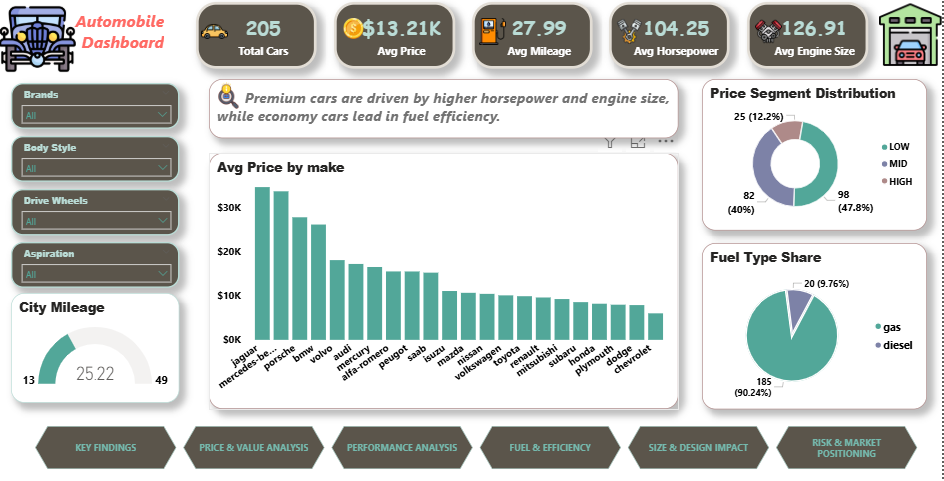

Layout of this report page (visuals, bound fields, positions):
{"tool":"powerbi","page":{"name":"EXECUTIVE OVERVIEW","canvas":[1400,720],"ordinal":2},"visuals":[{"type":"card","fields":{"Values":["automobile_data.Avg Price"]},"box":[497.7,2.3,180.3,99],"z":0},{"type":"card","fields":{"Values":["automobile_data.Total Sales"]},"box":[292.3,2.3,179.3,99],"z":1000},{"type":"card","fields":{"Values":["automobile_data.Avg Horsepower"]},"box":[906.3,2.3,179.3,99],"z":2000},{"type":"card","fields":{"Values":["automobile_data.Avg Mileage"]},"box":[702,2.3,179.3,99],"z":3000},{"type":"card","fields":{"Values":["automobile_data.Avg Engine Size"]},"box":[1110.6,2.3,180.3,99],"z":4000},{"type":"image","box":[300.5,27.1,40,40],"z":5000},{"type":"image","box":[507.3,27.4,36.5,30.8],"z":6000},{"type":"image","box":[712.2,27.1,40,40],"z":7000},{"type":"image","box":[915.7,27.1,40,40],"z":8000},{"type":"image","box":[1122.7,27.1,40,40],"z":9000},{"type":"columnChart","fields":{"Category":["automobile_data.make"],"Y":["automobile_data.Avg Price"]},"box":[311.8,227.7,697.4,380.4],"z":10000},{"type":"donutChart","title":"Price Segment Distribution","fields":{"Category":["automobile_data.Price Segment"],"Y":["CountNonNull(automobile_data.make)"]},"box":[1044.3,117.4,334,224.6],"z":11000},{"type":"pieChart","title":"Fuel Type Share","fields":{"Category":["automobile_data.fuel-type"],"Y":["CountNonNull(automobile_data.make)"]},"box":[1044.3,360.3,334,247.4],"z":12000},{"type":"textbox","box":[311.8,117.7,697.4,88],"z":13000},{"type":"image","box":[320.4,122,39.9,39.9],"z":14000},{"type":"slicer","fields":{"Values":["automobile_data.make"]},"box":[18.1,122.9,249.6,68],"z":15000},{"type":"slicer","fields":{"Values":["automobile_data.body-style"]},"box":[18.1,202.1,250,68],"z":16000},{"type":"slicer","fields":{"Values":["automobile_data.drive-wheels"]},"box":[18.1,280.9,250.2,68.8],"z":17000},{"type":"slicer","fields":{"Values":["automobile_data.aspiration"]},"box":[18.1,359,250.2,67.8],"z":18000},{"type":"textbox","box":[0,9.4,250.2,81.3],"z":19000},{"type":"image","box":[0,0,113.6,115.9],"z":20000},{"type":"image","box":[1306.8,0,93.2,102.2],"z":21000},{"type":"gauge","title":"City Mileage","fields":{"Y":["Avg(automobile_data.city-mpg)"],"MinValue":["Min(automobile_data.city-mpg)1"],"MaxValue":["Max(automobile_data.city-mpg)2"]},"box":[18.2,434.4,249.7,163],"z":22000},{"type":"pageNavigator","box":[53,632.7,1315.9,64.7],"z":23000}]}

Visuals, with their boxes in screenshot pixels (x1, y1, x2, y2), scaled from the page's 1400x720 canvas onto the 944x481 screenshot:
card - automobile_data.Avg Price: {"x1": 336, "y1": 2, "x2": 457, "y2": 68}
card - automobile_data.Total Sales: {"x1": 197, "y1": 2, "x2": 318, "y2": 68}
card - automobile_data.Avg Horsepower: {"x1": 611, "y1": 2, "x2": 732, "y2": 68}
card - automobile_data.Avg Mileage: {"x1": 473, "y1": 2, "x2": 594, "y2": 68}
card - automobile_data.Avg Engine Size: {"x1": 749, "y1": 2, "x2": 870, "y2": 68}
image: {"x1": 203, "y1": 18, "x2": 230, "y2": 45}
image: {"x1": 342, "y1": 18, "x2": 367, "y2": 39}
image: {"x1": 480, "y1": 18, "x2": 507, "y2": 45}
image: {"x1": 617, "y1": 18, "x2": 644, "y2": 45}
image: {"x1": 757, "y1": 18, "x2": 784, "y2": 45}
columnChart - automobile_data.make x automobile_data.Avg Price: {"x1": 210, "y1": 152, "x2": 680, "y2": 406}
"Price Segment Distribution" donutChart: {"x1": 704, "y1": 78, "x2": 929, "y2": 228}
"Fuel Type Share" pieChart: {"x1": 704, "y1": 241, "x2": 929, "y2": 406}
textbox: {"x1": 210, "y1": 79, "x2": 680, "y2": 137}
image: {"x1": 216, "y1": 82, "x2": 243, "y2": 108}
slicer - automobile_data.make: {"x1": 12, "y1": 82, "x2": 181, "y2": 128}
slicer - automobile_data.body-style: {"x1": 12, "y1": 135, "x2": 181, "y2": 180}
slicer - automobile_data.drive-wheels: {"x1": 12, "y1": 188, "x2": 181, "y2": 234}
slicer - automobile_data.aspiration: {"x1": 12, "y1": 240, "x2": 181, "y2": 285}
textbox: {"x1": 0, "y1": 6, "x2": 169, "y2": 61}
image: {"x1": 0, "y1": 0, "x2": 77, "y2": 77}
image: {"x1": 881, "y1": 0, "x2": 943, "y2": 68}
"City Mileage" gauge: {"x1": 12, "y1": 290, "x2": 181, "y2": 399}
pageNavigator: {"x1": 36, "y1": 423, "x2": 923, "y2": 466}
